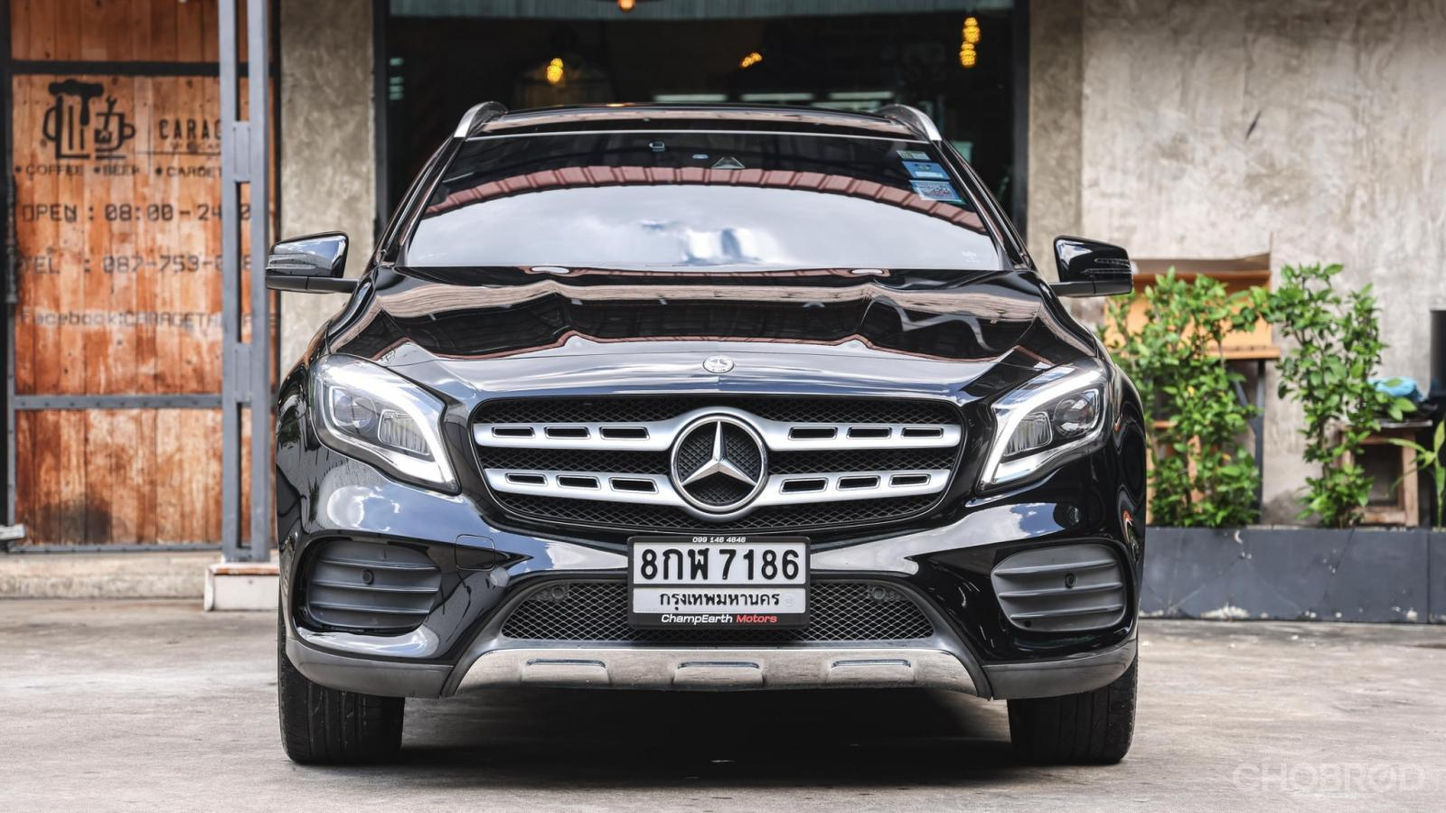license-plate: (629, 538, 809, 626)
